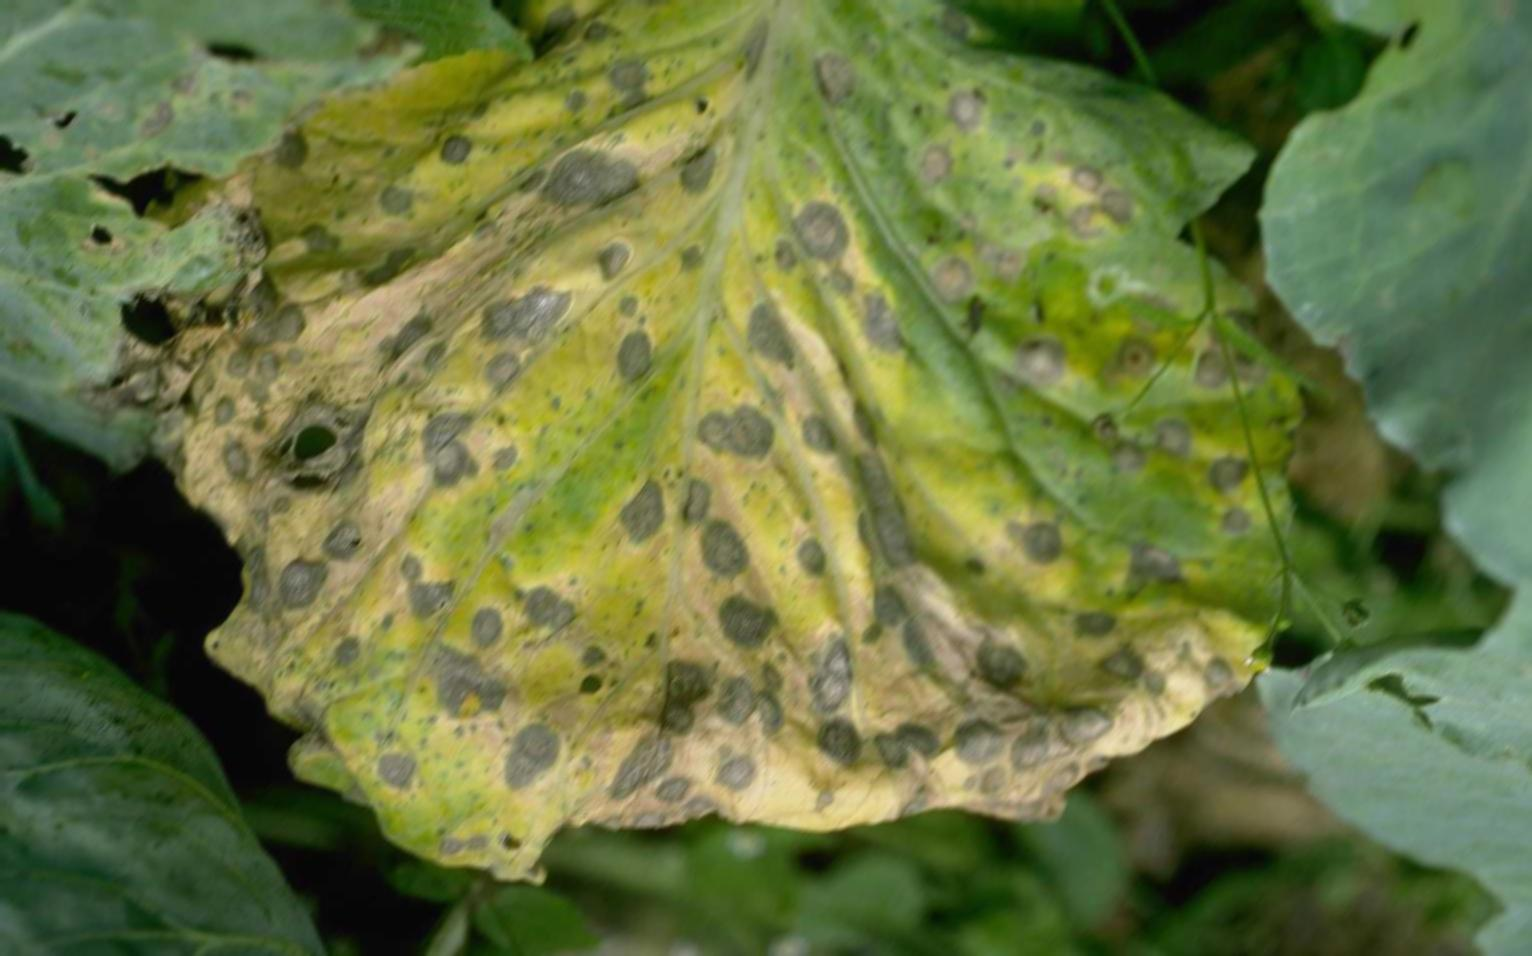Tomato leaf bacterial spot: (146, 0, 1328, 872)
